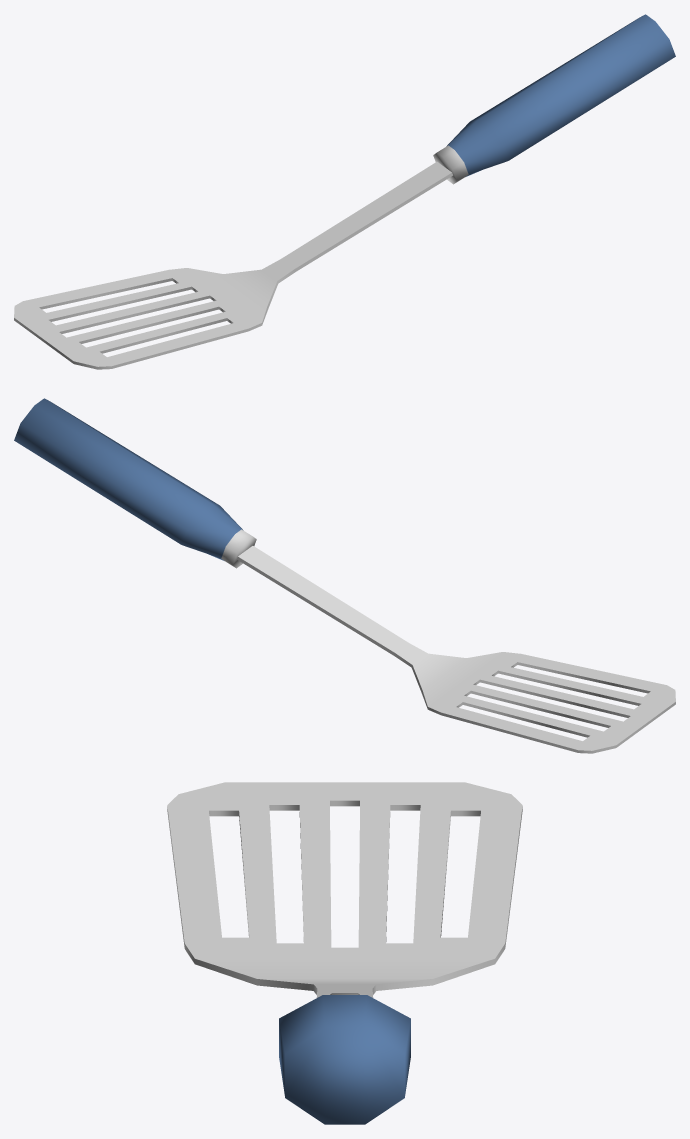
Rendered from CookingTurner.glb.
The picture shows the model from 3 angles, top to bottom: view 1: azimuth 30°, elevation 25°; view 2: azimuth 150°, elevation 25°; view 3: azimuth 270°, elevation 25°; orthographic projection. The views are drawn at different scales.
Visible parts, largest first — view 1: Plane, Plane.001; view 2: Plane, Plane.001; view 3: Plane, Plane.001.
Boxes of the visible parts, bbox=[...] form: Plane: bbox=[14, 162, 452, 369]; Plane.001: bbox=[433, 14, 675, 184]; Plane: bbox=[237, 546, 675, 753]; Plane.001: bbox=[14, 398, 256, 568]; Plane: bbox=[167, 782, 522, 997]; Plane.001: bbox=[279, 993, 410, 1124].
Size of the model in its own units: 1.32 by 0.358 by 0.327.
